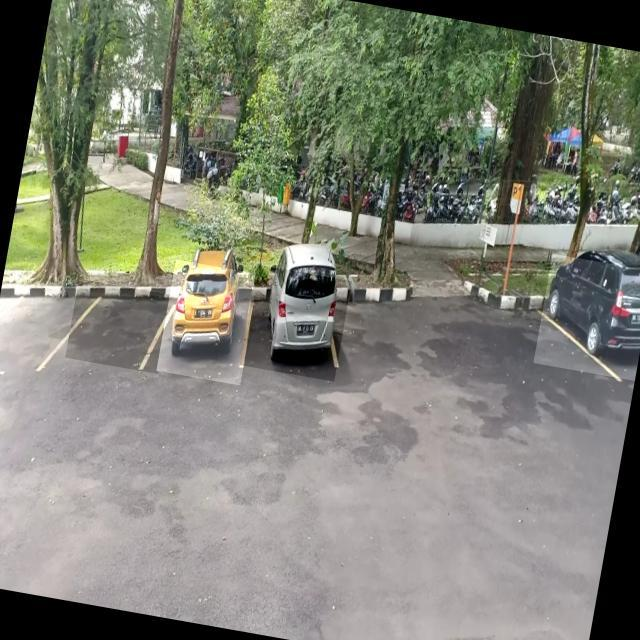empty: (65, 278, 172, 374)
occupied: (533, 253, 640, 380), (239, 264, 351, 381), (156, 259, 259, 385)
